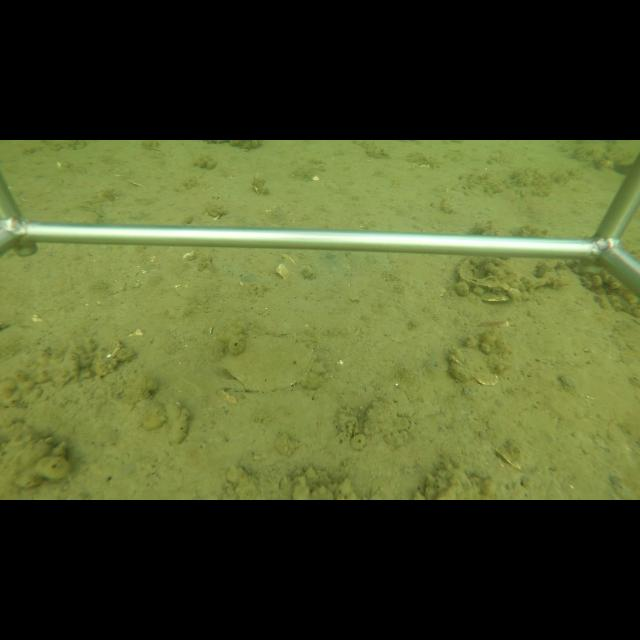Oyster-Closed: (218, 329, 321, 392)
